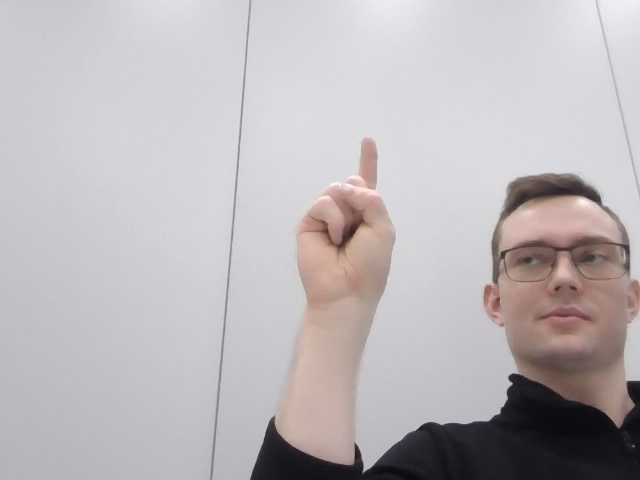up: (276, 117, 403, 355)
